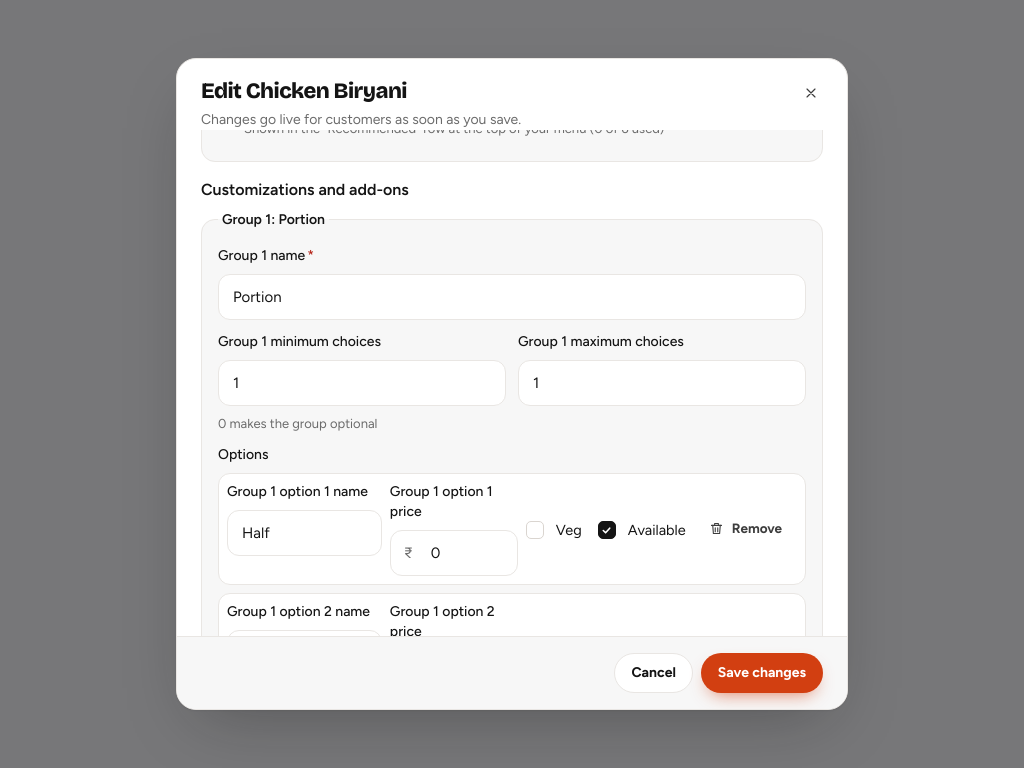
ItemEditor customization validation › flags a maximum larger than the number of options
(page scrolled)
Replace the text in the number field labelled "Group 1 maximum choices" with "5": [662, 383] box [518,360,806,406]
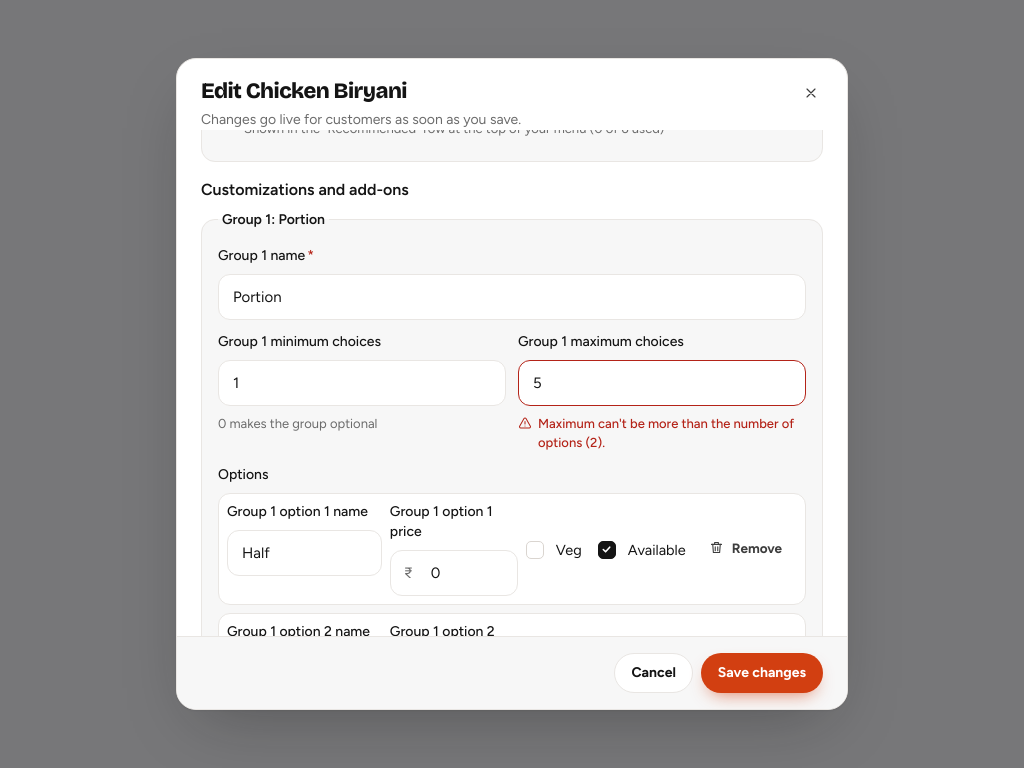
expect the text "Maximum can't be more than the number of options (2)." is shown: met, box [538,414,806,453]
